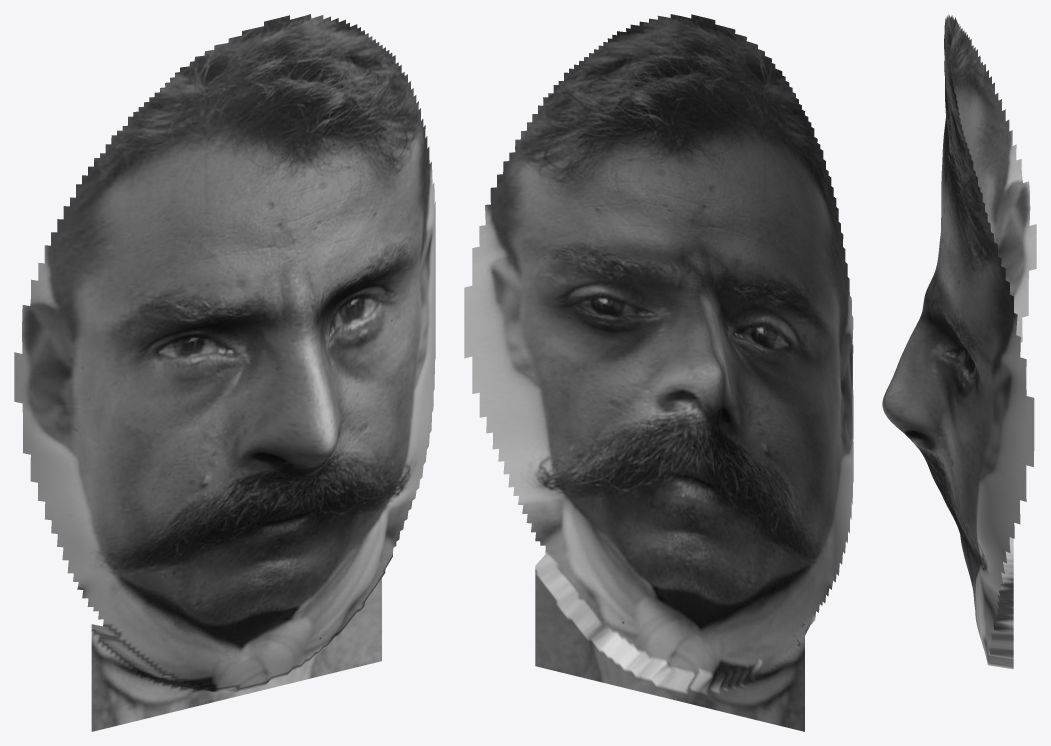
Rendered from zapata_face.glb.
The picture shows the model from 3 angles, left to right: view 1: azimuth 30°, elevation 25°; view 2: azimuth 150°, elevation 25°; view 3: azimuth 270°, elevation 25°; orthographic projection. The views are drawn at different scales.
Visible parts, largest first — view 1: EmilianoZapataFace; view 2: EmilianoZapataFace; view 3: EmilianoZapataFace.
Part boxes in pixels (x1,y1,x2,y2): EmilianoZapataFace: (14,14,435,731); EmilianoZapataFace: (464,14,853,731); EmilianoZapataFace: (882,14,1036,669).
Size of the model in its own units: 0.2985 by 0.4788 by 0.1047.
1 material, 1 textured.
